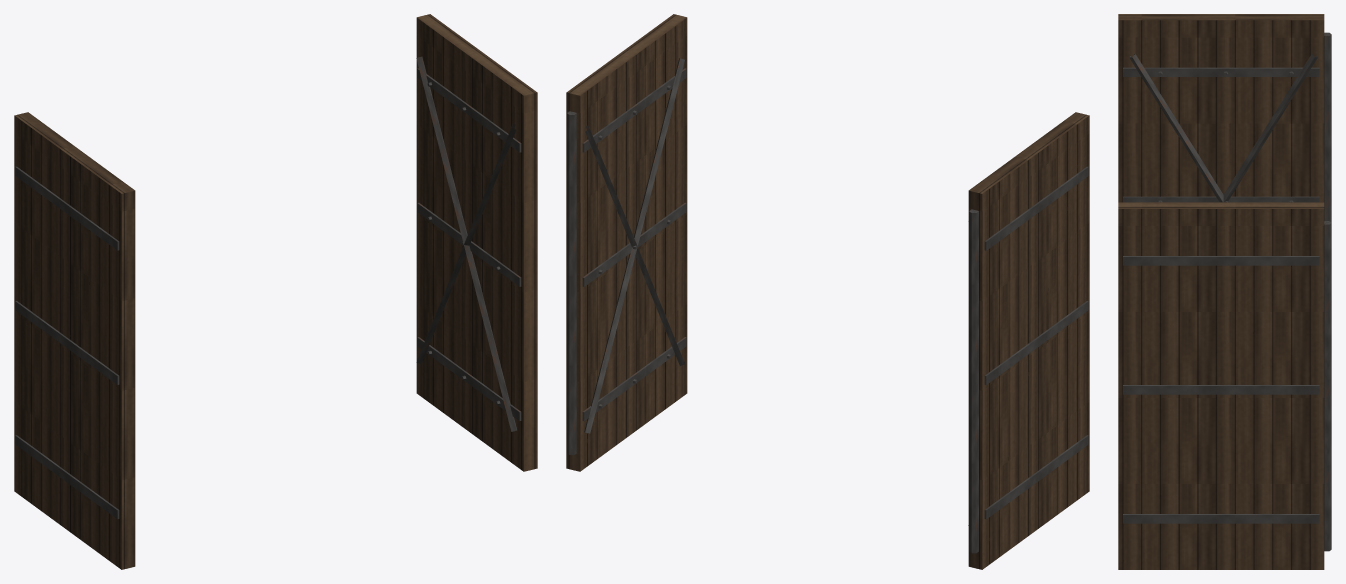
The model's file is Gate_City_Iron_1.gltf.
3 renders of one model, left to right at view 1: azimuth 30°, elevation 25°; view 2: azimuth 150°, elevation 25°; view 3: azimuth 270°, elevation 25°, orthographic. The views are drawn at different scales.
Parts seen in each view (by area): view 1: Gate_City_Iron_1; view 2: Gate_City_Iron_1; view 3: Gate_City_Iron_1.
Part boxes in pixels (box(x1,y1,x2,y2)): Gate_City_Iron_1: box(14, 14, 537, 569); Gate_City_Iron_1: box(566, 14, 1089, 569); Gate_City_Iron_1: box(1118, 14, 1331, 569).
Size of the model in its own units: 4.9 by 4.2 by 2.25.
2 materials, 2 textured.
